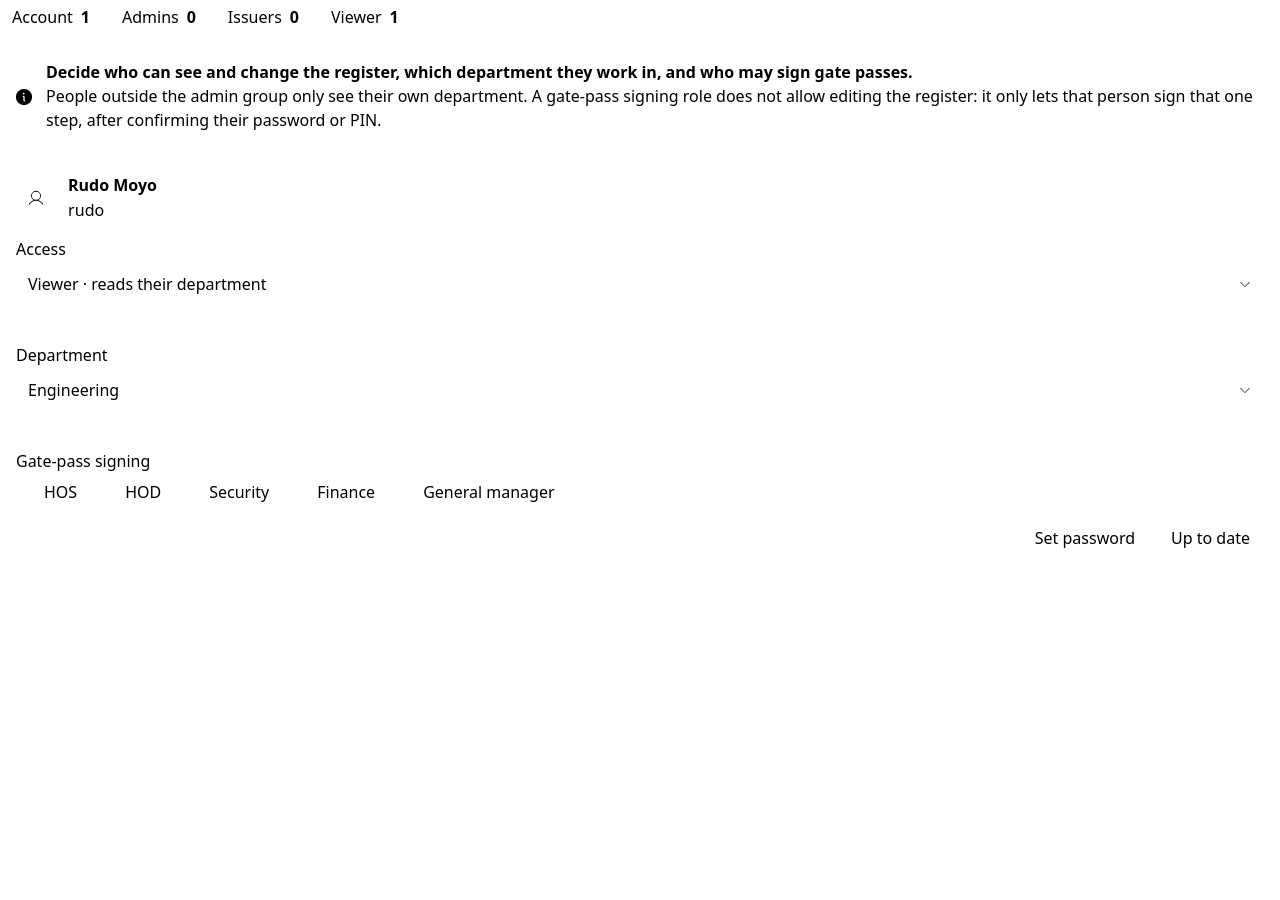
Test: ToolsAccountAccess password reset › sends the new password and closes the form on success
This screenshot has width=1280, height=900.
Click the button "Set password". click: coordinates (1085, 538)
box: [1021,520,1149,556]
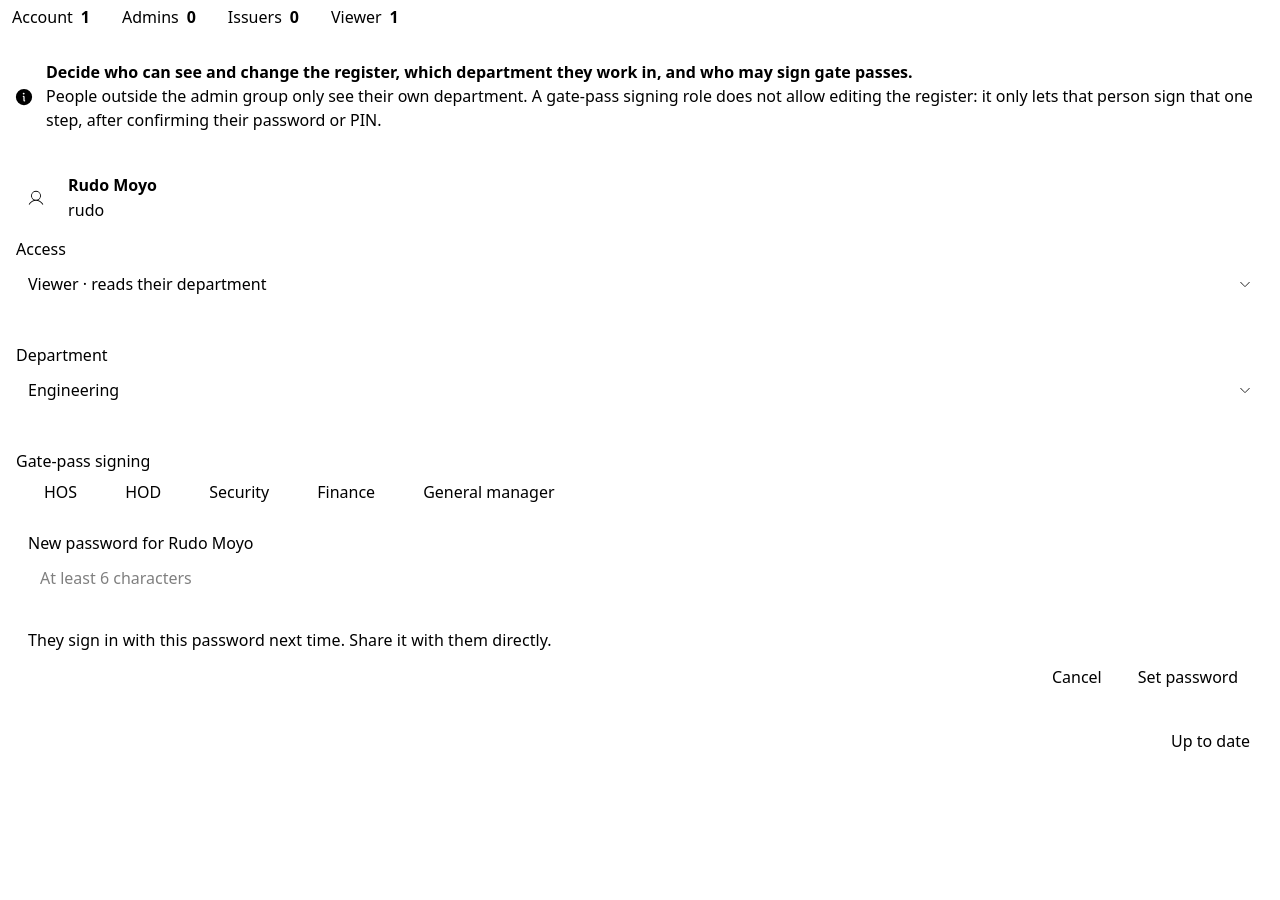
Type "newpass12" into the password field labelled "New password for Rudo Moyo". click: coordinates (640, 578)
box: [28,560,1252,596]
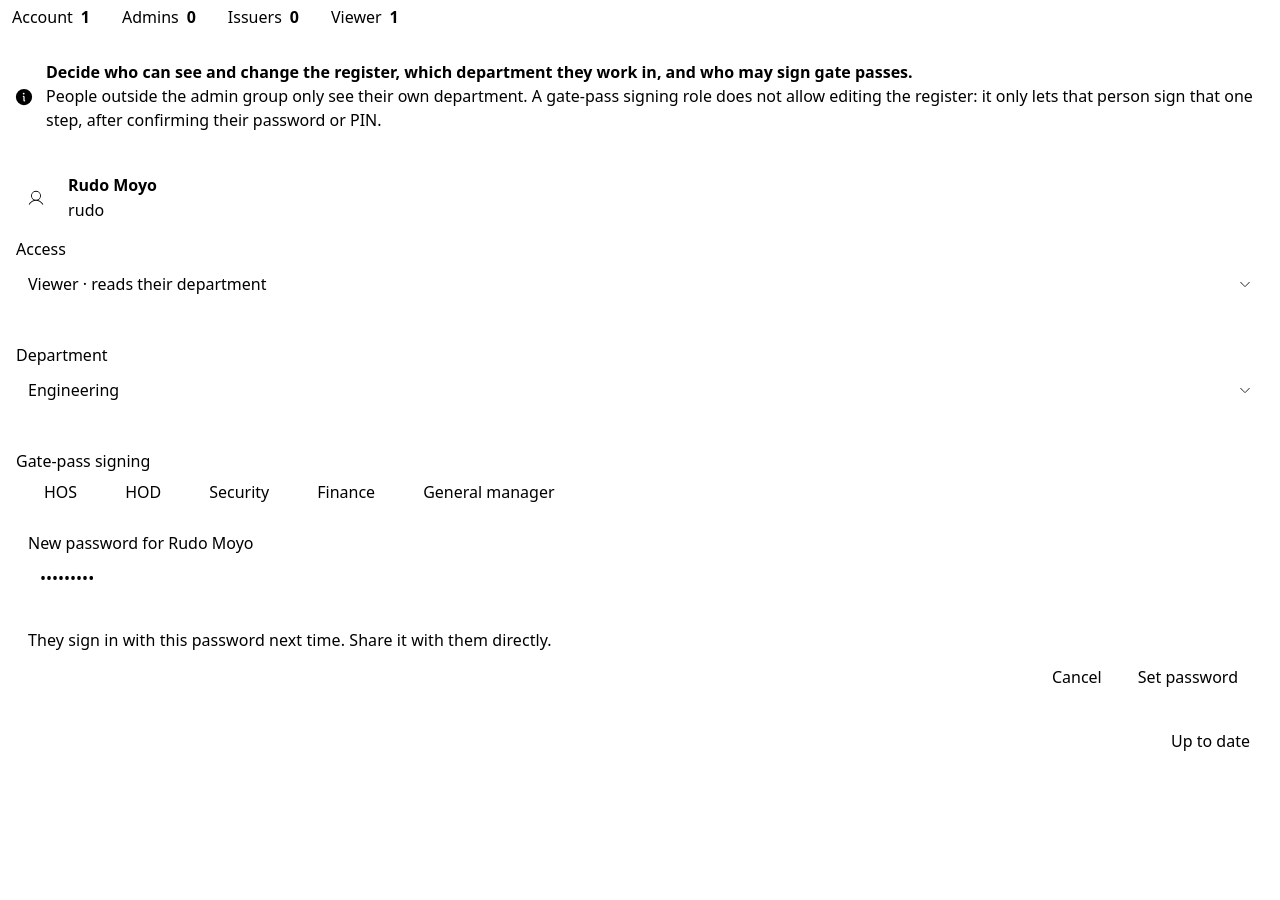
Click the button "Set password". click: coordinates (1188, 677)
box: [1124,659,1252,695]
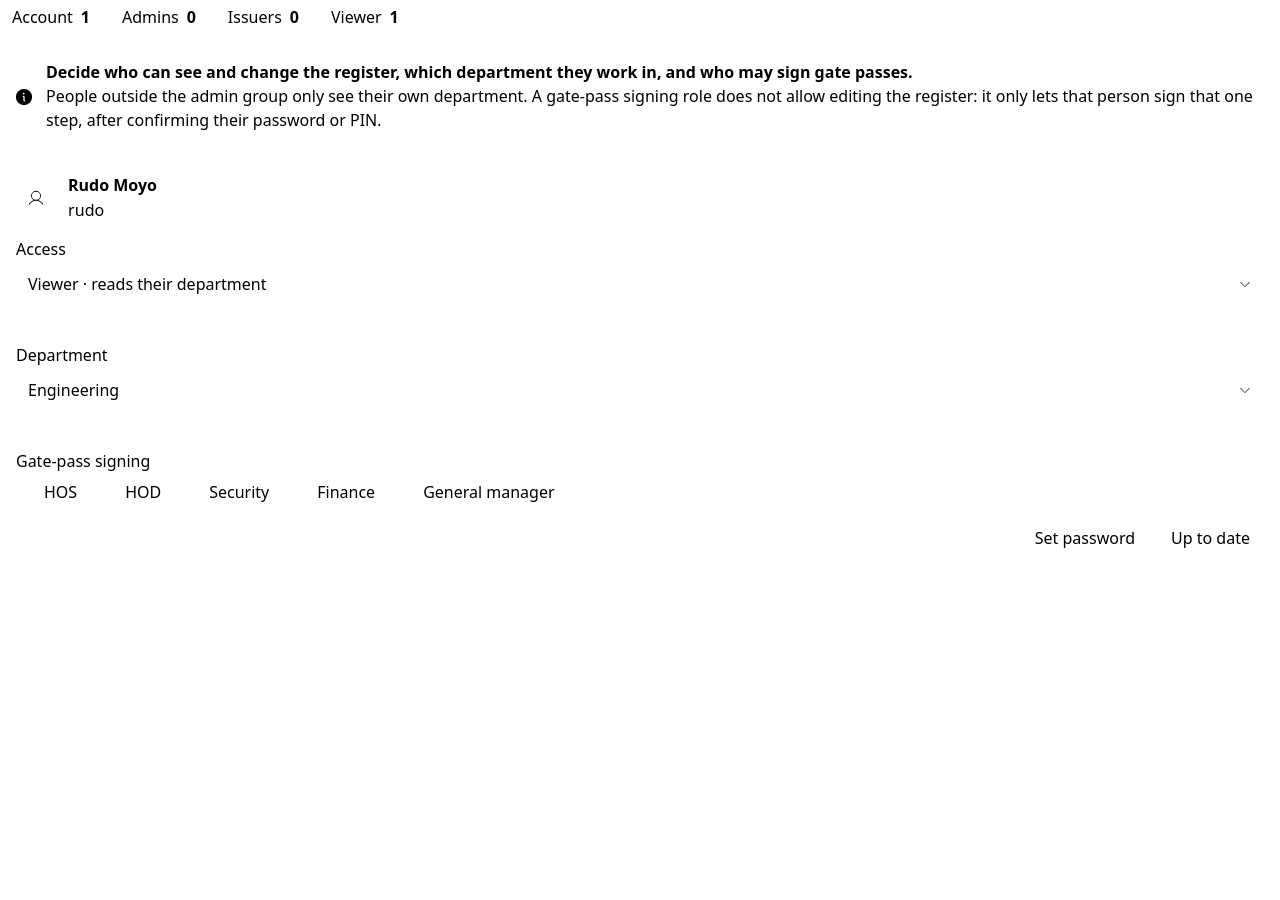
Check: the label labelled "New password for Rudo Moyo" is gone
